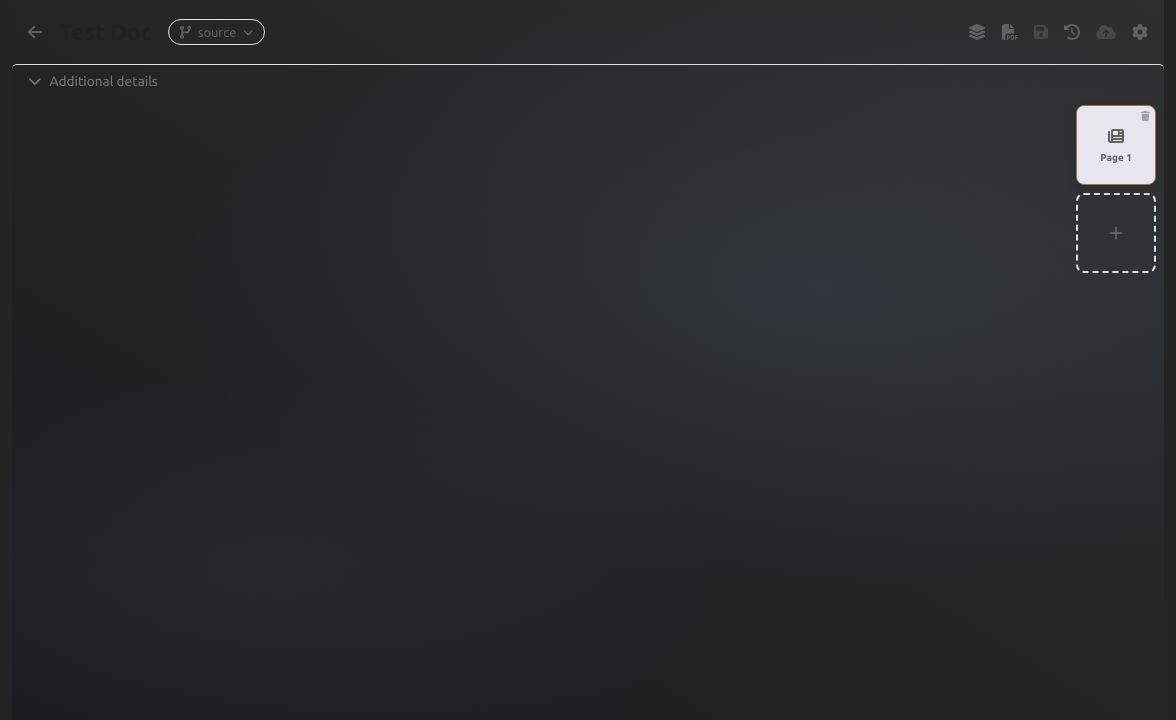
Scenario: SpellEditForm › metadata editing (TCORE-103) › the refresh-from-PDF button is disabled when the spell has no stored original PDF
The width and height of the screenshot is (1176, 720).
Expected: the element with test id "spell-edit-form" is shown, [12, 18, 1164, 273]
Click the button with test id "spell-metadata-toggle". click: [104, 81]
box: [12, 64, 1164, 97]
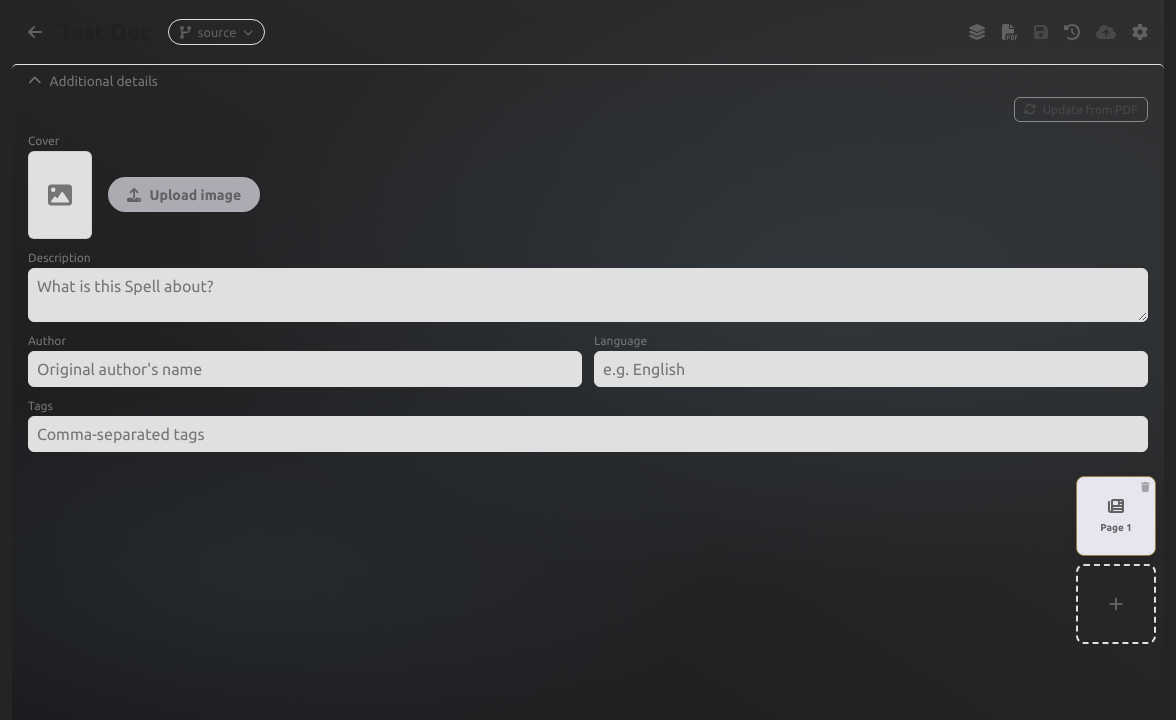
Expected: the button with test id "spell-metadata-refresh-btn" is disabled, [1014, 97, 1148, 122]
